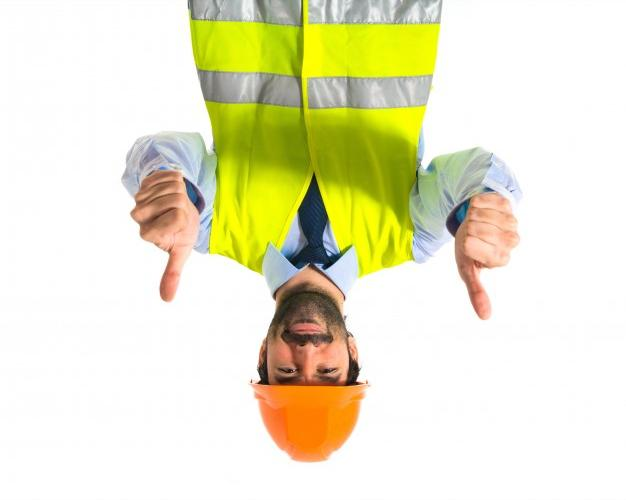thumbsdown: (460, 194, 521, 321), (130, 171, 185, 302)
